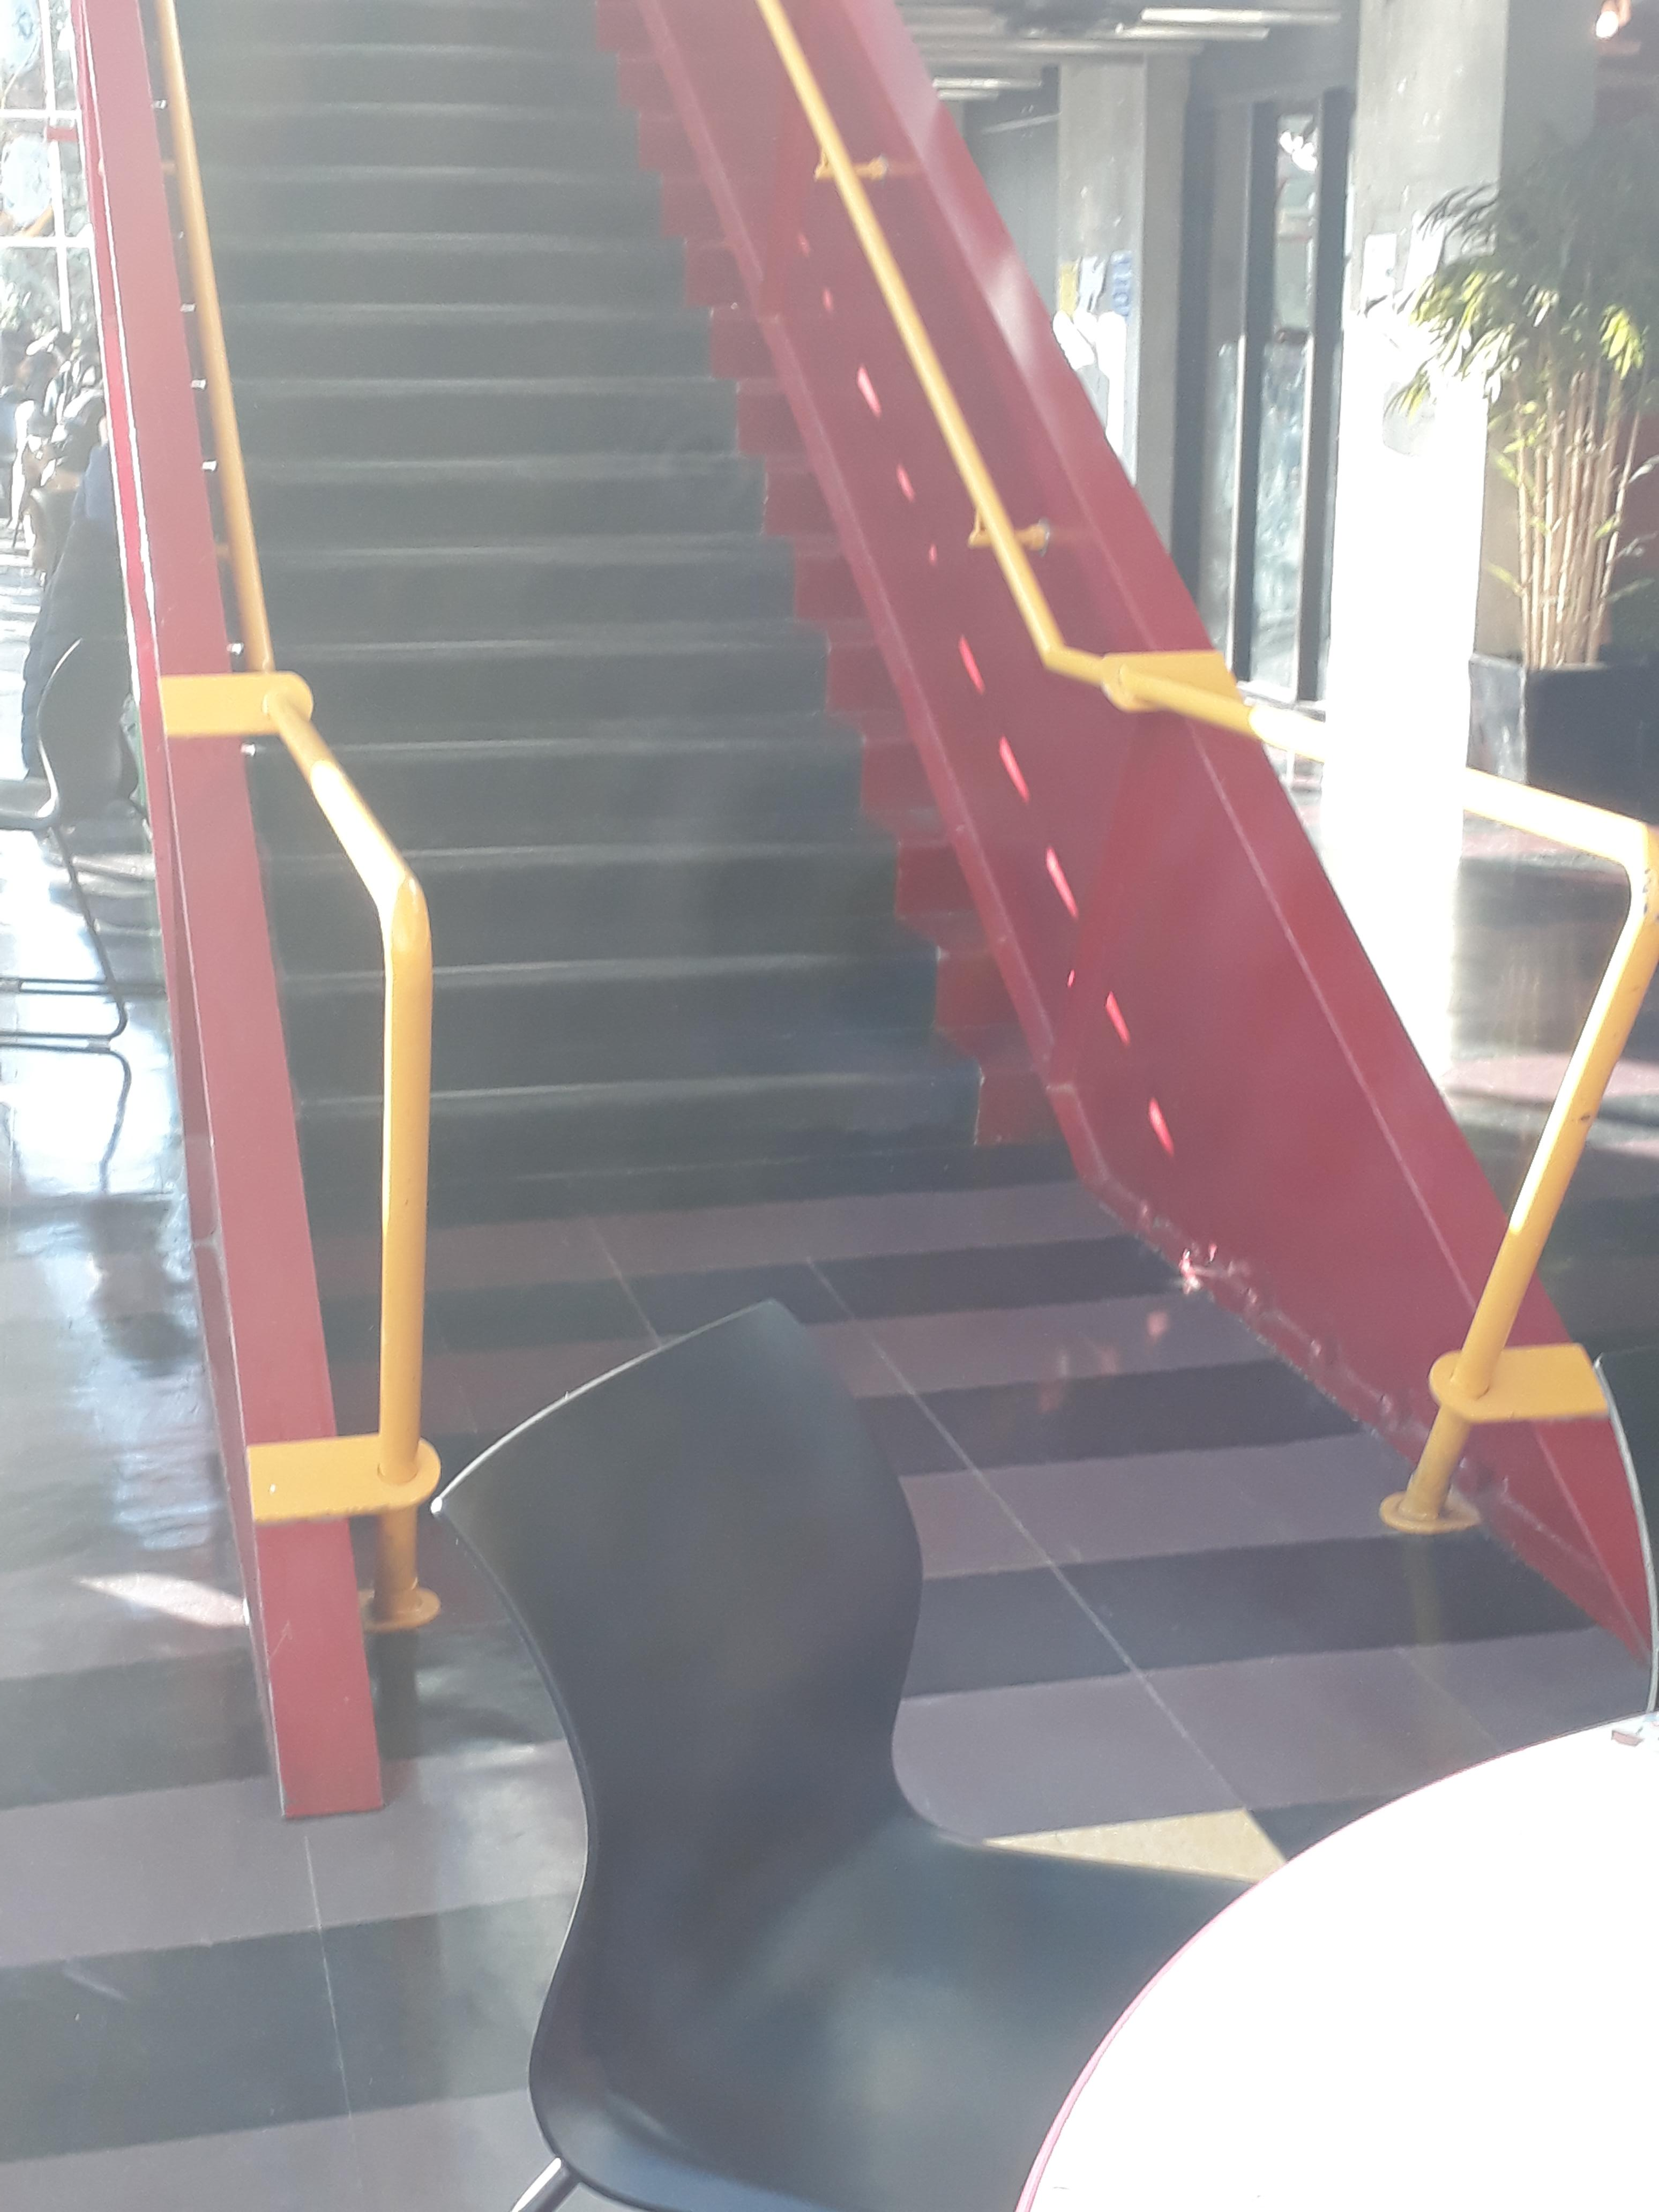stair: (139, 0, 1063, 1193)
